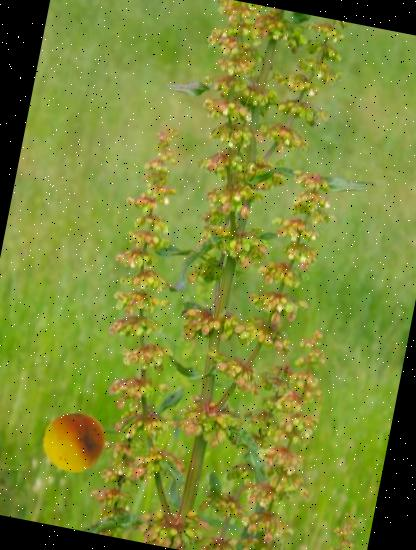Peach: (36, 405, 112, 481)
